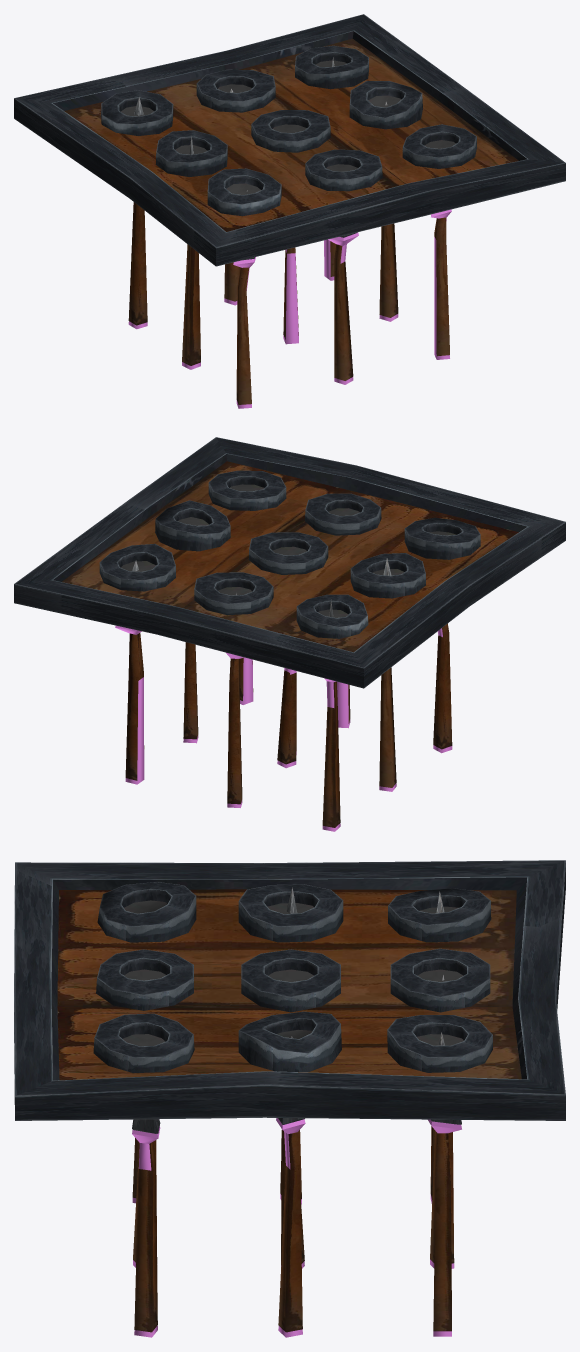
The model's file is SpikeTrap.gltf.
3 views of the same model, one above another, from view 1: azimuth 30°, elevation 25°; view 2: azimuth 150°, elevation 25°; view 3: azimuth 270°, elevation 25° (orthographic). The views are drawn at different scales.
Visible parts, largest first — view 1: SpikeTrap, Normal, Spectral; view 2: SpikeTrap, Normal, Spectral; view 3: SpikeTrap, Normal, Spectral.
Boxes of the visible parts, <box> form: SpikeTrap: <box>14,14,565,266</box>; Normal: <box>128,57,449,404</box>; Spectral: <box>128,209,451,408</box>; SpikeTrap: <box>14,437,565,688</box>; Normal: <box>125,558,452,827</box>; Spectral: <box>115,625,452,831</box>; SpikeTrap: <box>14,860,565,1120</box>; Normal: <box>132,887,461,1332</box>; Spectral: <box>132,1118,461,1337</box>.
Size of the model in its own units: 2 by 1.26 by 2.01.
2 materials, 1 textured.
